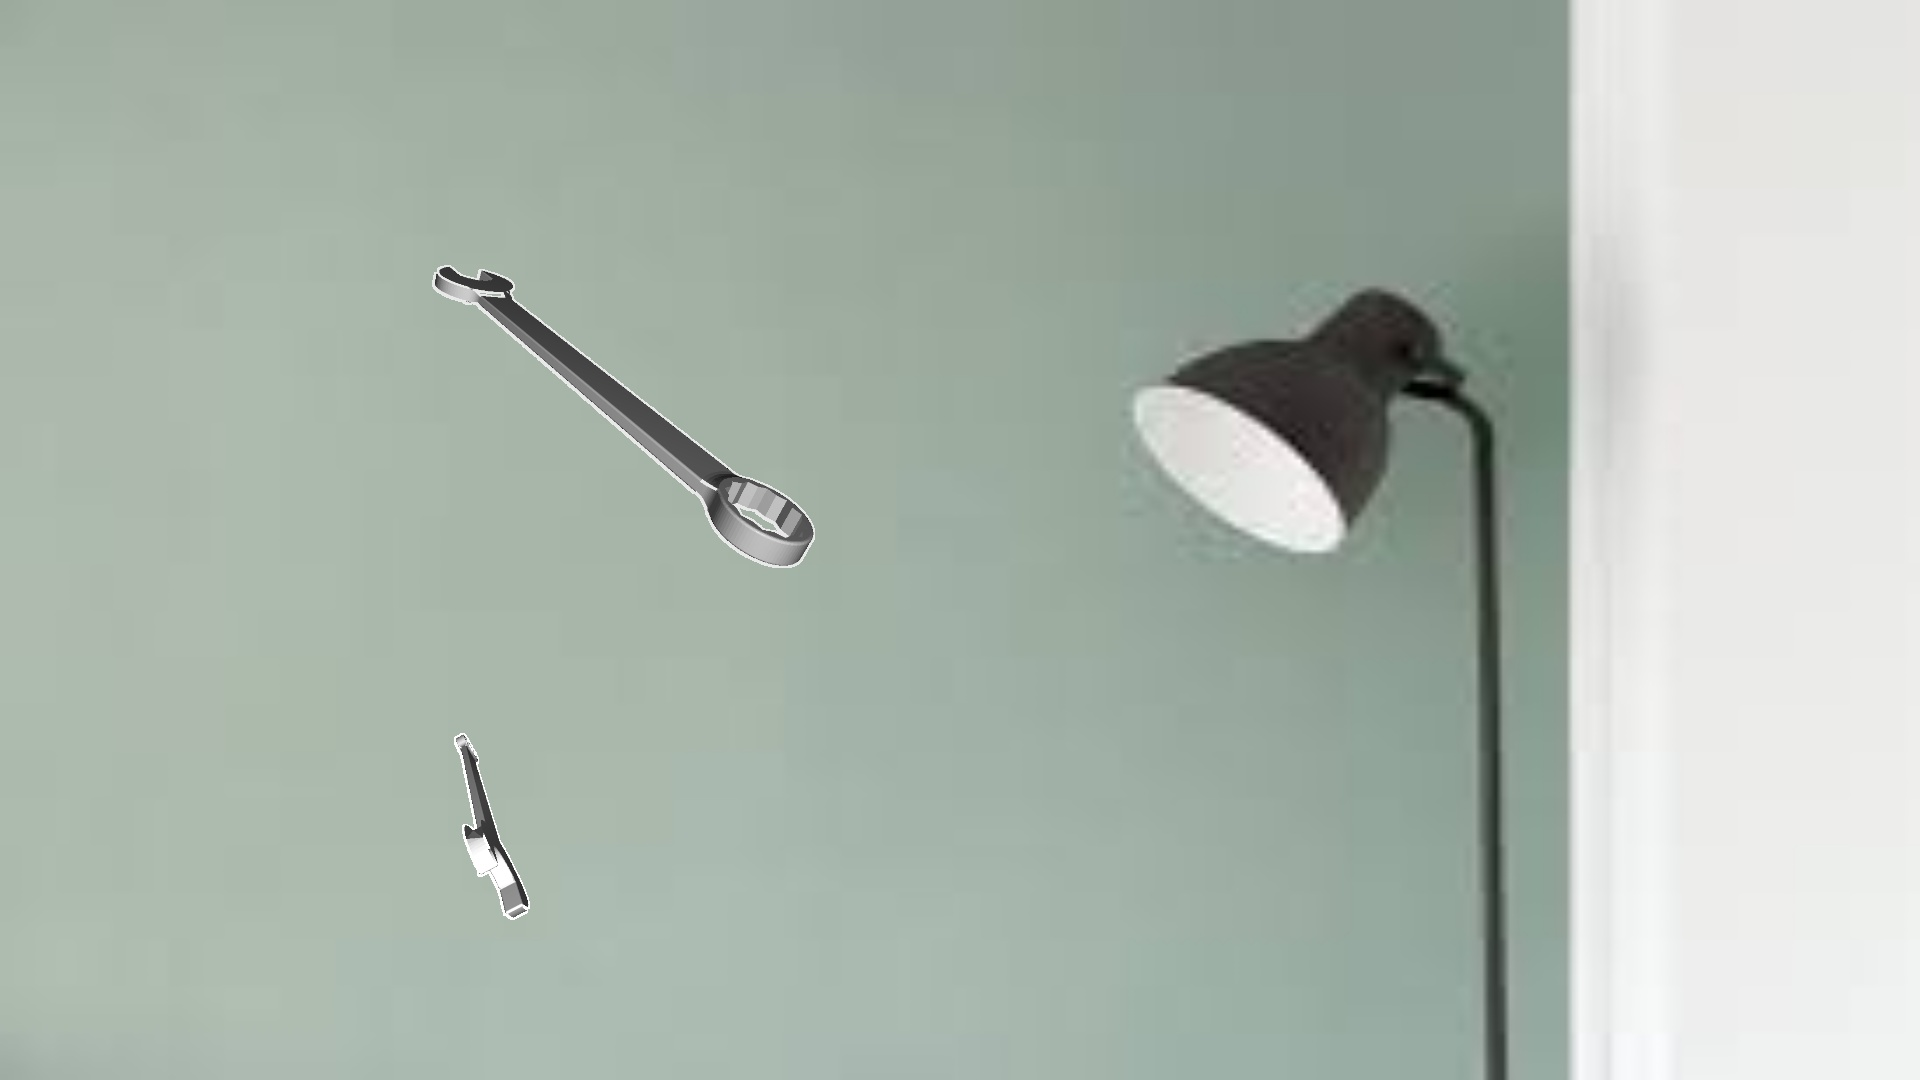Mixed Key: (433, 265, 814, 567), (454, 733, 529, 919)
